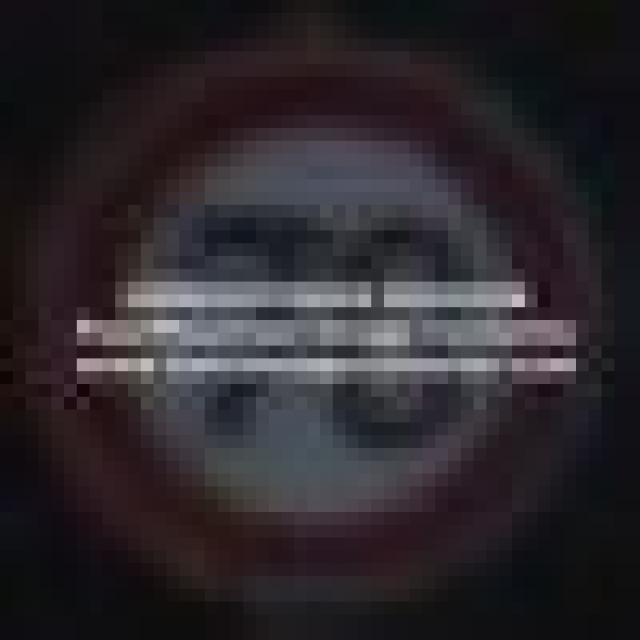SPEED_LIMIT_70: (26, 51, 588, 576)
